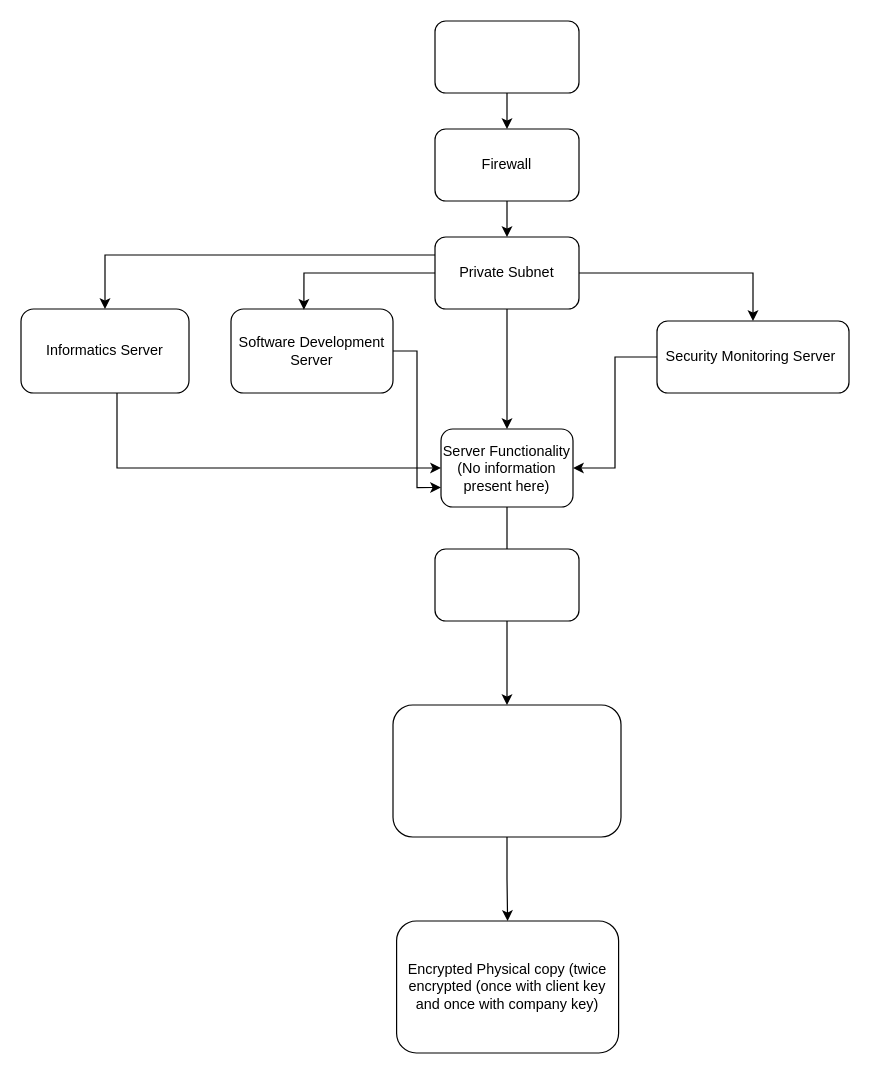
This 870x1074 diagram has some shape labels left out. Each missing label, with the box of its shape:
2nd Firewall to protect internals and alert security team: (434, 548, 579, 621)
AWS Key management to log into instances: (434, 20, 579, 93)
Encrypted Database Instance (RDS): (392, 704, 621, 837)
